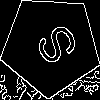S: (26, 21, 81, 74)
